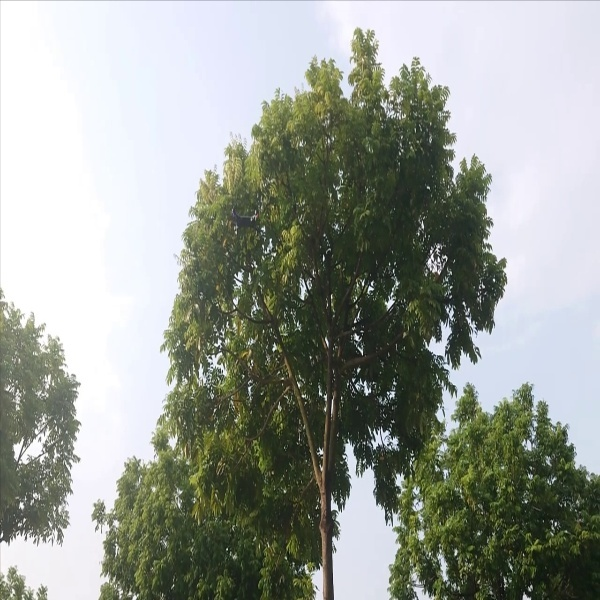drone: (224, 203, 271, 236)
